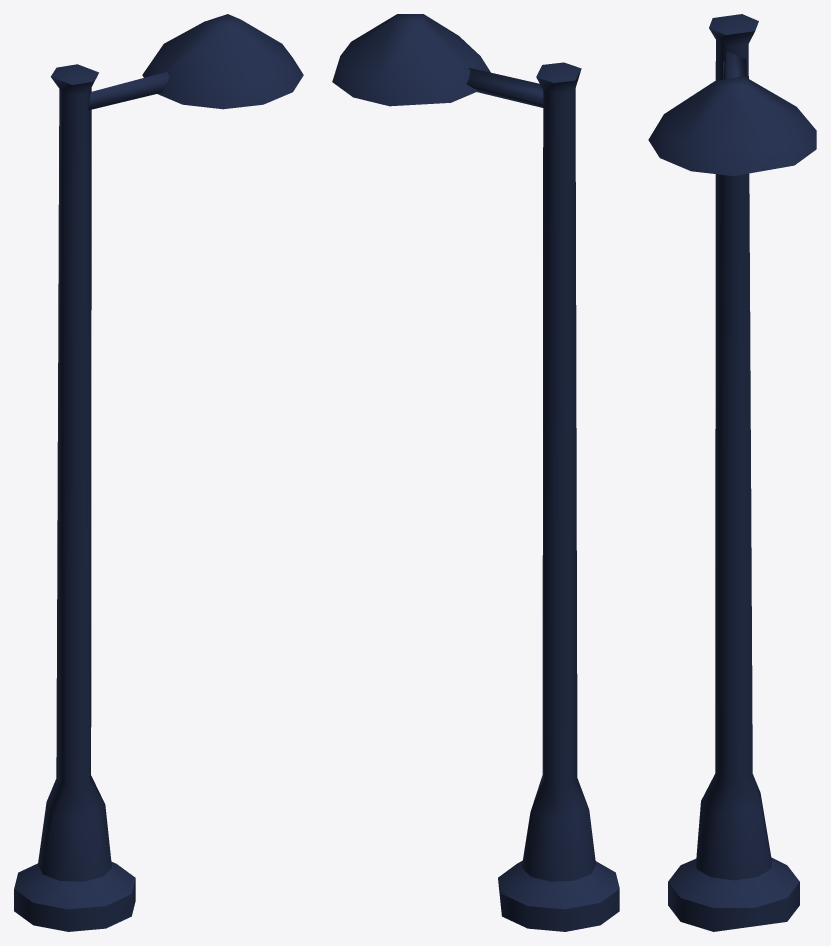
File: lamp.glb
3 renders of one model, left to right at view 1: azimuth 30°, elevation 25°; view 2: azimuth 150°, elevation 25°; view 3: azimuth 270°, elevation 25°, orthographic. The views are drawn at different scales.
Parts seen in each view (by area): view 1: lamp; view 2: lamp; view 3: lamp.
Part boxes in pixels (x1,y1,x2,y2): lamp: (14,14,303,931); lamp: (332,14,619,931); lamp: (648,14,816,931).
Size of the model in its own units: 1 by 3.01 by 0.5111.
Materials: 1 (1 with a texture image).
